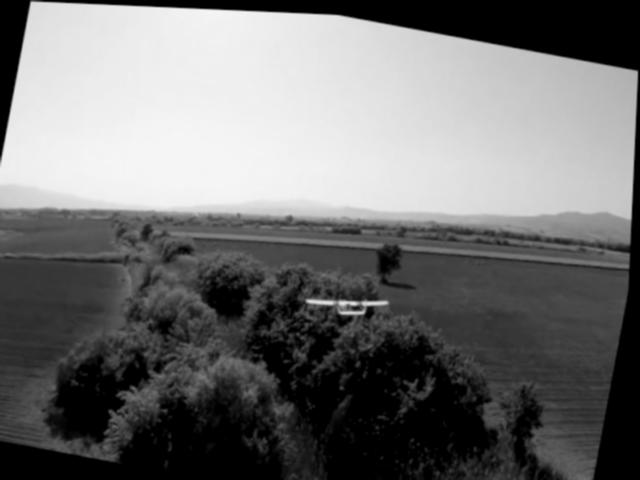hedef: (303, 271, 400, 328)
